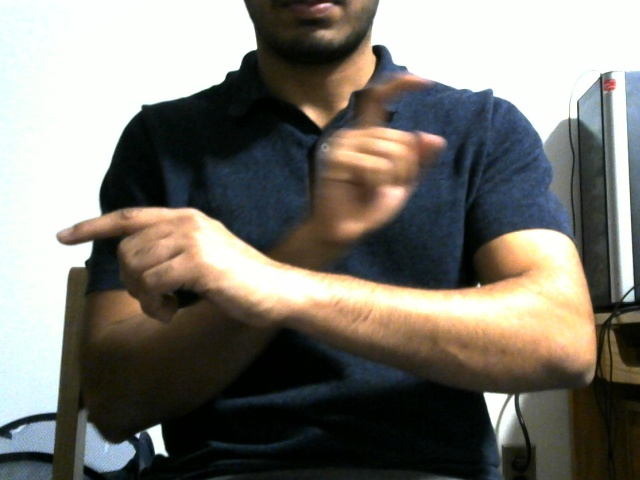call: (38, 82, 489, 335)
